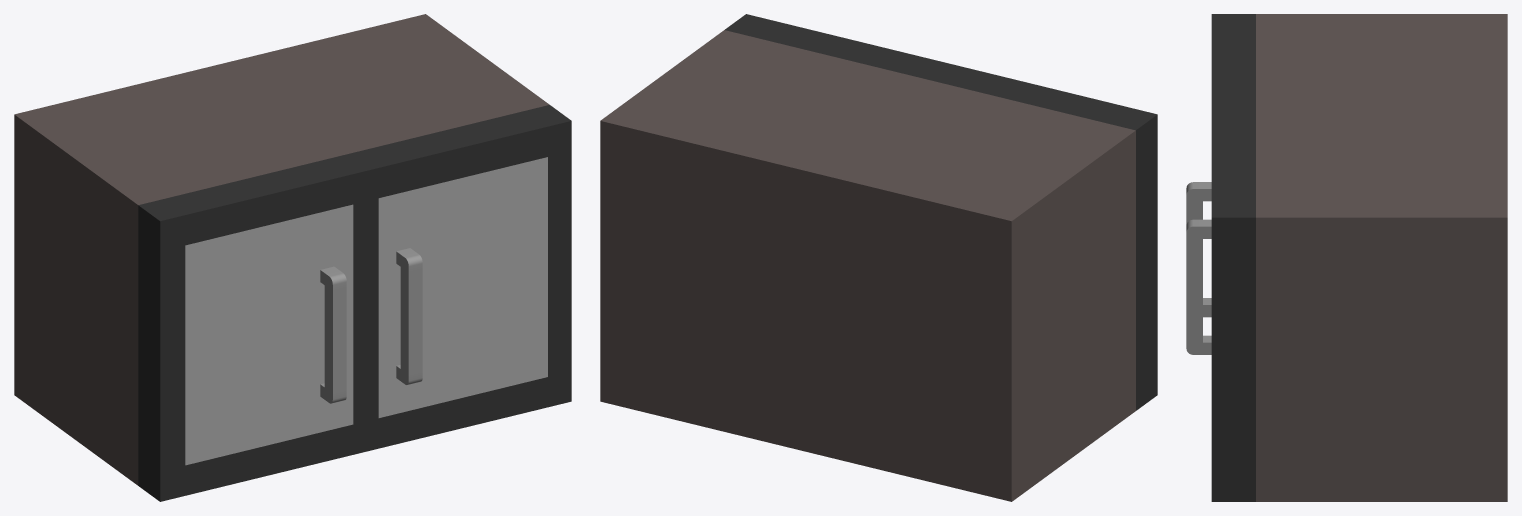
File: fbx_warmcabinet_1.fbx
The picture shows the model from 3 angles, left to right: view 1: azimuth 30°, elevation 25°; view 2: azimuth 150°, elevation 25°; view 3: azimuth 270°, elevation 25°; orthographic projection.
Visible parts, largest first — view 1: fbx_warmcabinet_1; view 2: fbx_warmcabinet_1; view 3: fbx_warmcabinet_1.
Boxes of the visible parts, x1,y1,x2,y2 form: fbx_warmcabinet_1: [14, 14, 571, 501]; fbx_warmcabinet_1: [600, 14, 1157, 501]; fbx_warmcabinet_1: [1186, 14, 1507, 501].
Bounding box in the file's own units: 1.53 × 1 × 1.02.
Materials: 2 (1 with a texture image).
